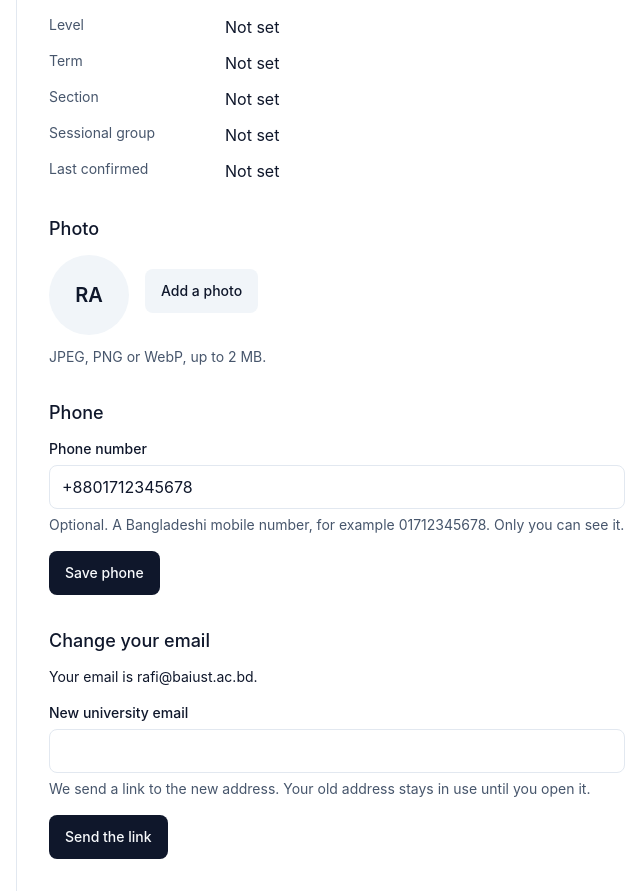
Test: change email (PRF-05) › PRF-05 a bad address shows a message and nothing is sent
The width and height of the screenshot is (644, 891).
(page scrolled)
In the field labelled "New university email": point(337, 751) [49,729,625,773], type "nope"
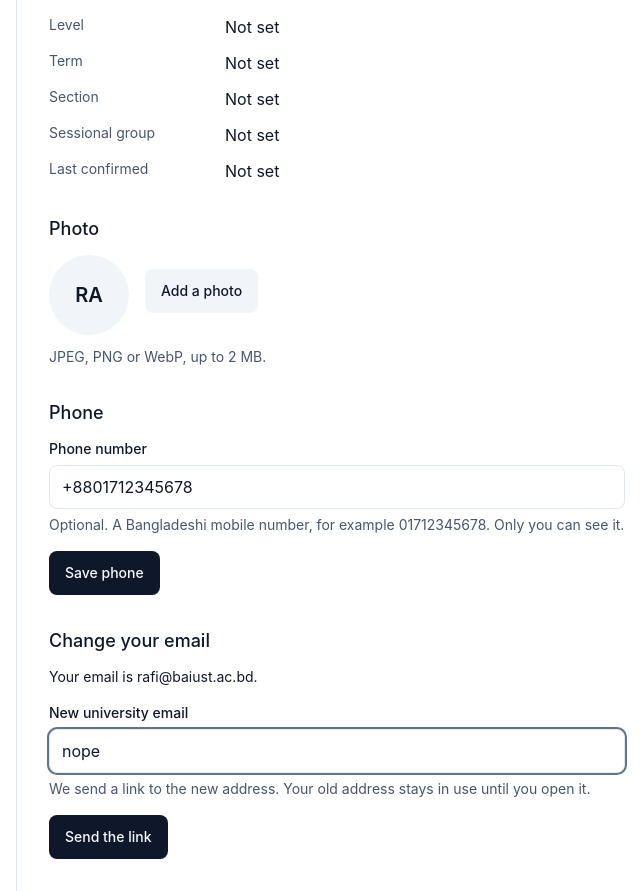
Click the button "Send the link": point(108, 837) [49,815,168,859]
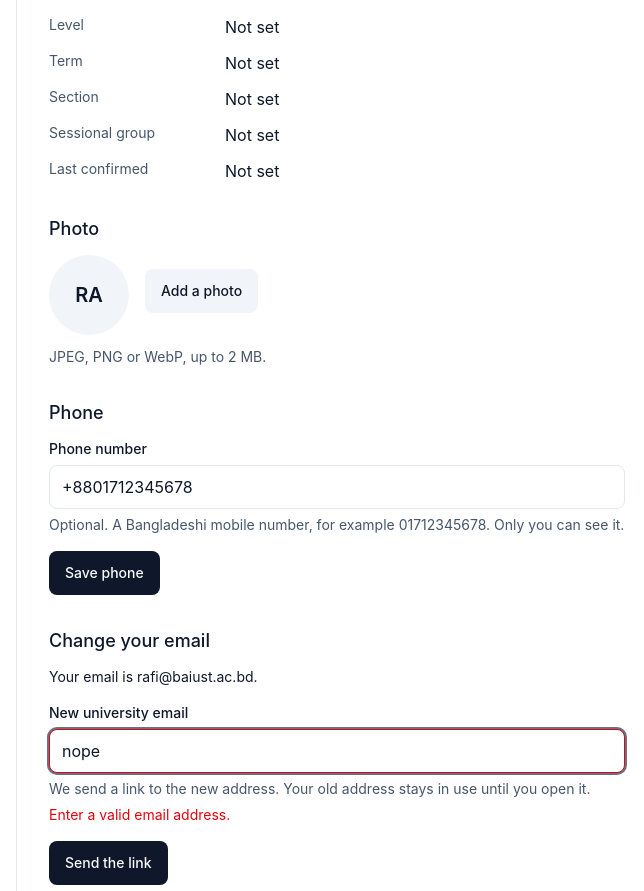
Check: the text "Enter a valid email address." is shown, box [49,806,230,823]
